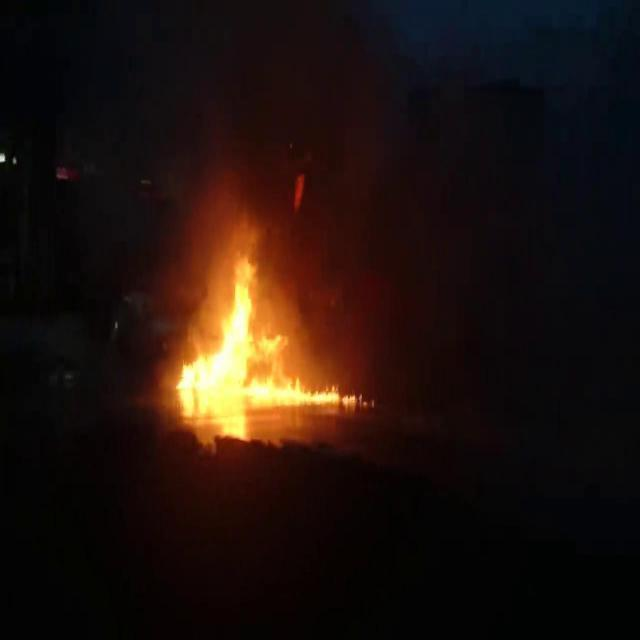Fire: (176, 263, 371, 410)
